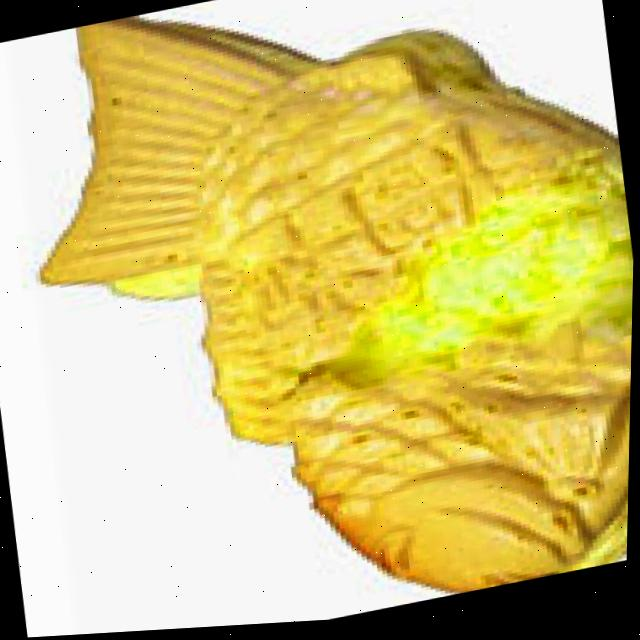熟制海鲜: (6, 0, 640, 639)
